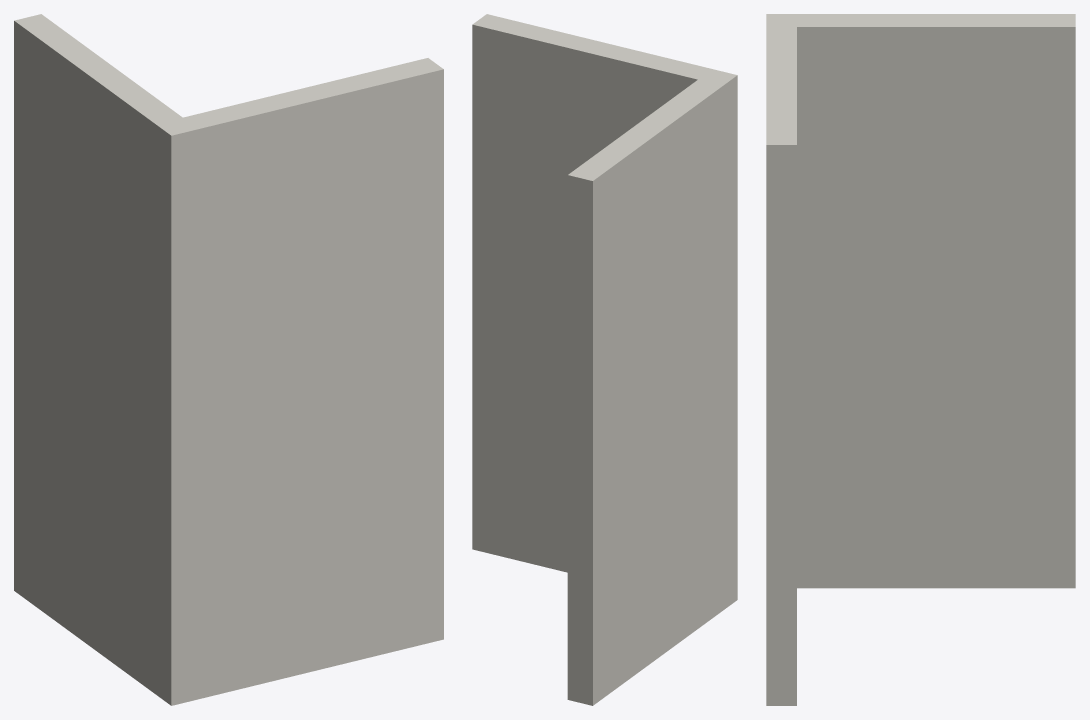
Rendered from OA_Wall_GroundCornerOuter_2m.fbx.
3 renders of one model, left to right at view 1: azimuth 30°, elevation 25°; view 2: azimuth 150°, elevation 25°; view 3: azimuth 270°, elevation 25°, orthographic. The views are drawn at different scales.
Parts seen in each view (by area): view 1: OA_Wall_GroundCornerOuter_2m; view 2: OA_Wall_GroundCornerOuter_2m; view 3: OA_Wall_GroundCornerOuter_2m.
Boxes of the visible parts, box(x1,y1,x2,y2) form: OA_Wall_GroundCornerOuter_2m: box(14, 14, 443, 705); OA_Wall_GroundCornerOuter_2m: box(472, 14, 737, 705); OA_Wall_GroundCornerOuter_2m: box(766, 14, 1075, 705).
Size of the model in its own units: 2 by 4 by 2.
1 material, 1 textured.
